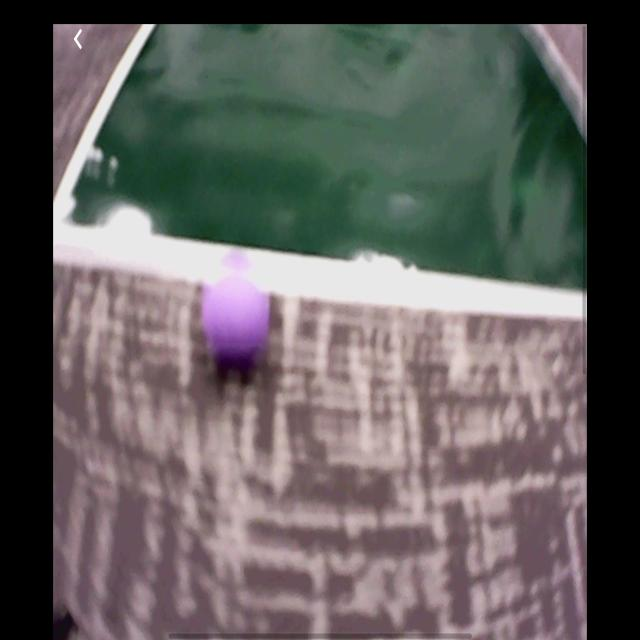ball: (201, 272, 272, 370)
